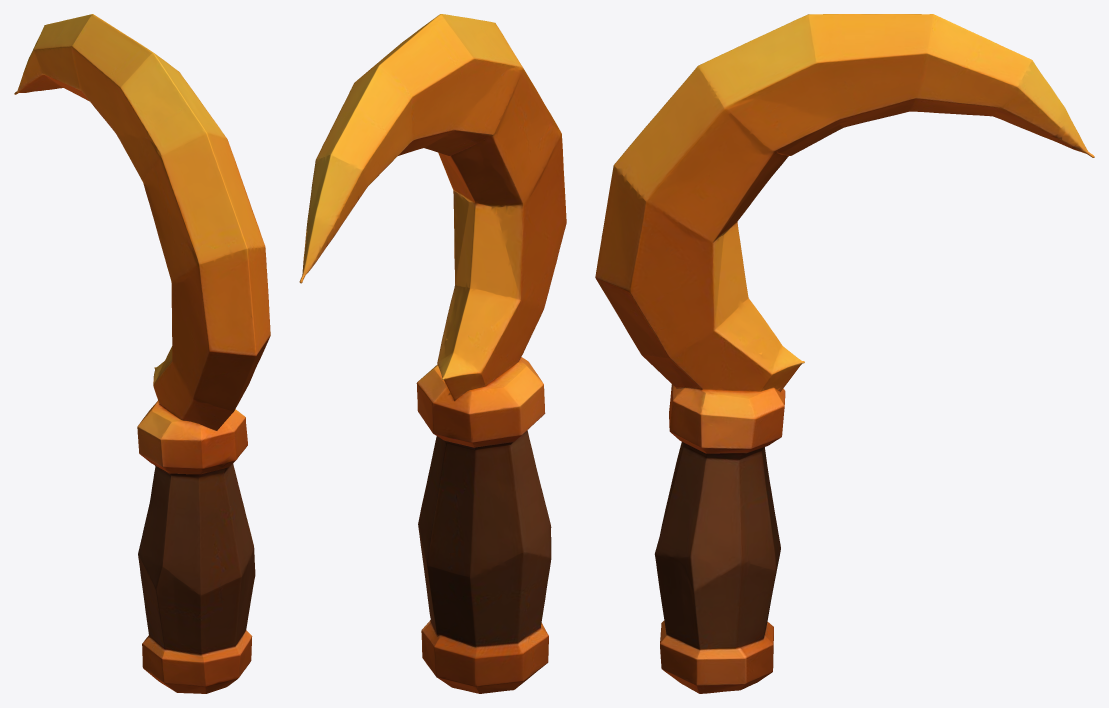
Rendered from Yardsweep-CopperSickle.glb.
The picture shows the model from 3 angles, left to right: view 1: azimuth 30°, elevation 25°; view 2: azimuth 150°, elevation 25°; view 3: azimuth 270°, elevation 25°; orthographic projection. The views are drawn at different scales.
Parts seen in each view (by area): view 1: tripo_node_737df082-4d2d-4b17-888e-b654dacb0899; view 2: tripo_node_737df082-4d2d-4b17-888e-b654dacb0899; view 3: tripo_node_737df082-4d2d-4b17-888e-b654dacb0899.
Boxes of the visible parts, x1,y1,x2,y2 form: tripo_node_737df082-4d2d-4b17-888e-b654dacb0899: [14, 14, 270, 693]; tripo_node_737df082-4d2d-4b17-888e-b654dacb0899: [299, 14, 566, 693]; tripo_node_737df082-4d2d-4b17-888e-b654dacb0899: [595, 14, 1094, 693].
Size of the model in its own units: 0.1691 by 1 by 0.6845.
Materials: 1 (1 with a texture image).
